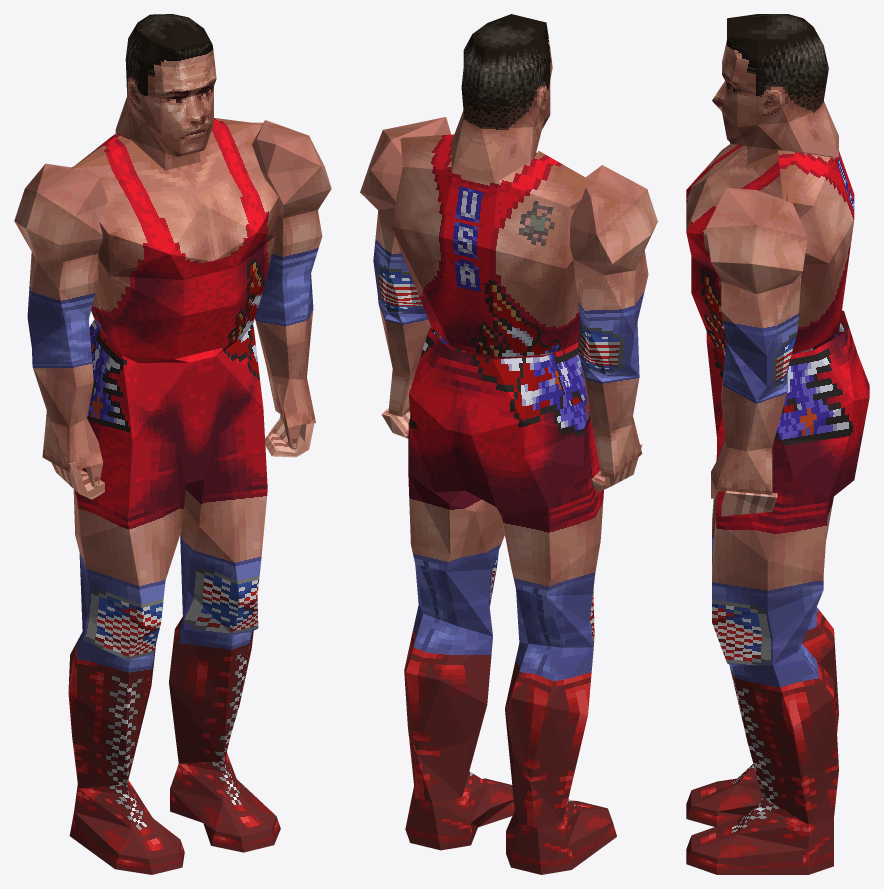
The model's file is kurt_angle_1.glb.
3 views of the same model, side by side, from view 1: azimuth 30°, elevation 25°; view 2: azimuth 150°, elevation 25°; view 3: azimuth 270°, elevation 25° (orthographic).
Parts seen in each view (by area): view 1: 091_6F01C65E_c.bmp, 085_758FF76_c.bmp, 099_758D926_c.bmp, 094_5780C02C_c.bmp, 080_4E95CF6E_c.bmp, 081_32C58E2B_c.bmp, 098_4D5C9797_c.bmp, 093_32C5571B_c.bmp, 102_4E960AFE_c.bmp, 089_663874D2_c.bmp, 065_53DA27D8_c.bmp, 075_53D9EF88_c.bmp (+9 smaller); view 2: 098_4D5C9797_c.bmp, 093_32C5571B_c.bmp, 103_3A32C71A_c.bmp, 097_35B7C1F8_c.bmp, 081_32C58E2B_c.bmp, 080_4E95CF6E_c.bmp, 090_48A705A1_c.bmp, 085_758FF76_c.bmp, 104_607B0D4F_c.bmp, 099_758D926_c.bmp, 102_4E960AFE_c.bmp, 065_53DA27D8_c.bmp (+5 smaller); view 3: 099_758D926_c.bmp, 093_32C5571B_c.bmp, 102_4E960AFE_c.bmp, 104_607B0D4F_c.bmp, 090_48A705A1_c.bmp, 075_53D9EF88_c.bmp, 097_35B7C1F8_c.bmp, 091_6F01C65E_c.bmp, 096_2FFB6D1B_c.bmp, 103_3A32C71A_c.bmp, 089_663874D2_c.bmp, 065_53DA27D8_c.bmp (+5 smaller).
Boxes of the visible parts, x1,y1,x2,y2 form: 091_6F01C65E_c.bmp: (68, 122, 279, 279); 085_758FF76_c.bmp: (73, 418, 181, 660); 099_758D926_c.bmp: (180, 408, 267, 634); 094_5780C02C_c.bmp: (95, 236, 275, 359); 080_4E95CF6E_c.bmp: (14, 163, 107, 347); 081_32C58E2B_c.bmp: (68, 555, 156, 788); 098_4D5C9797_c.bmp: (87, 320, 202, 528); 093_32C5571B_c.bmp: (169, 534, 258, 763); 102_4E960AFE_c.bmp: (252, 120, 331, 297); 089_663874D2_c.bmp: (143, 33, 216, 156); 065_53DA27D8_c.bmp: (69, 780, 184, 874); 075_53D9EF88_c.bmp: (170, 752, 280, 852); 098_4D5C9797_c.bmp: (458, 342, 590, 516); 093_32C5571B_c.bmp: (404, 564, 492, 802); 103_3A32C71A_c.bmp: (391, 226, 577, 357); 097_35B7C1F8_c.bmp: (391, 134, 594, 268); 081_32C58E2B_c.bmp: (505, 589, 594, 827); 080_4E95CF6E_c.bmp: (570, 165, 657, 375); 090_48A705A1_c.bmp: (451, 14, 548, 183); 085_758FF76_c.bmp: (501, 420, 603, 633); 104_607B0D4F_c.bmp: (408, 327, 536, 511); 099_758D926_c.bmp: (408, 473, 504, 606); 102_4E960AFE_c.bmp: (360, 117, 451, 313); 065_53DA27D8_c.bmp: (506, 799, 616, 874); 099_758D926_c.bmp: (712, 437, 833, 663); 093_32C5571B_c.bmp: (727, 590, 838, 824); 102_4E960AFE_c.bmp: (706, 187, 807, 387); 104_607B0D4F_c.bmp: (706, 322, 869, 499); 090_48A705A1_c.bmp: (727, 14, 838, 157); 075_53D9EF88_c.bmp: (686, 798, 833, 874); 097_35B7C1F8_c.bmp: (778, 150, 854, 264); 091_6F01C65E_c.bmp: (686, 125, 787, 272); 096_2FFB6D1B_c.bmp: (721, 343, 787, 451); 103_3A32C71A_c.bmp: (792, 220, 853, 352); 089_663874D2_c.bmp: (712, 35, 757, 145); 065_53DA27D8_c.bmp: (686, 764, 762, 826).
Bounding box in the file's own units: 0.066 × 0.177 × 0.036.
Materials: 22 (22 with a texture image).
